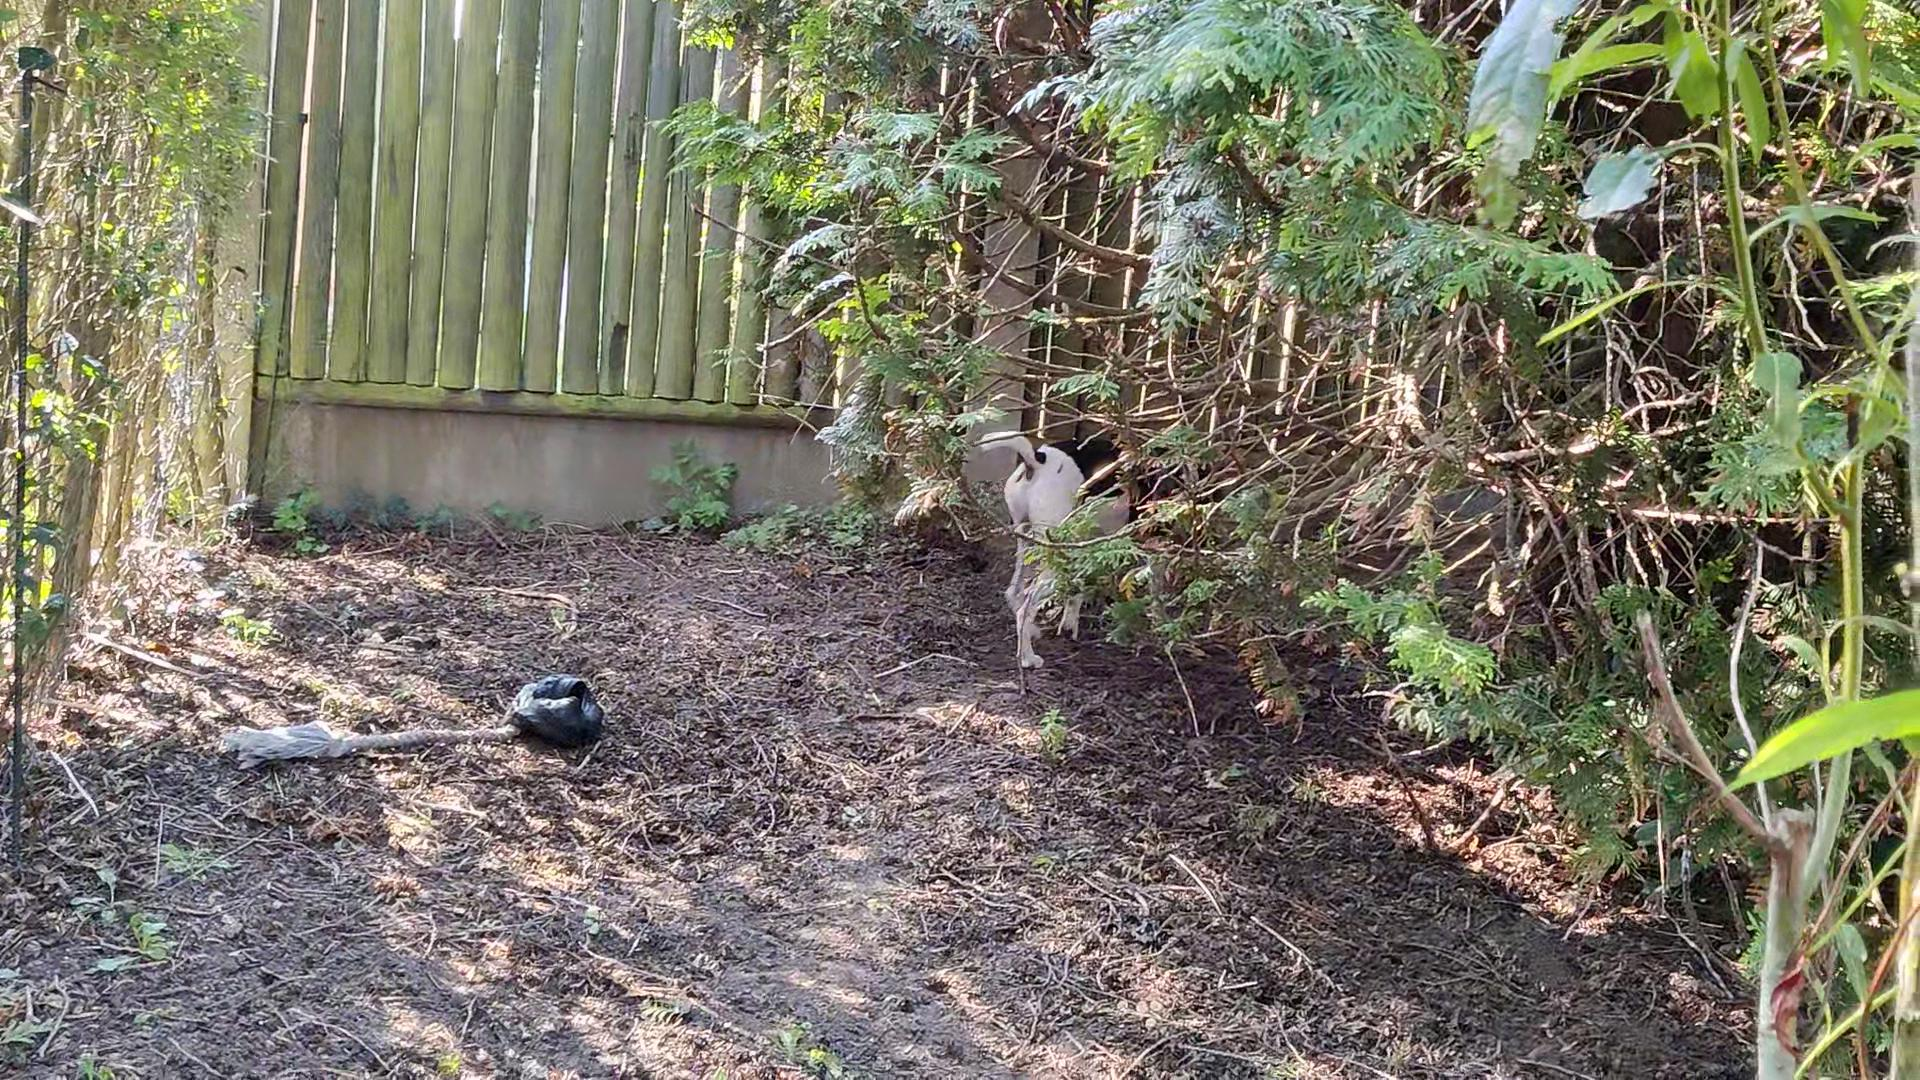Dog: (964, 414, 1232, 670)
